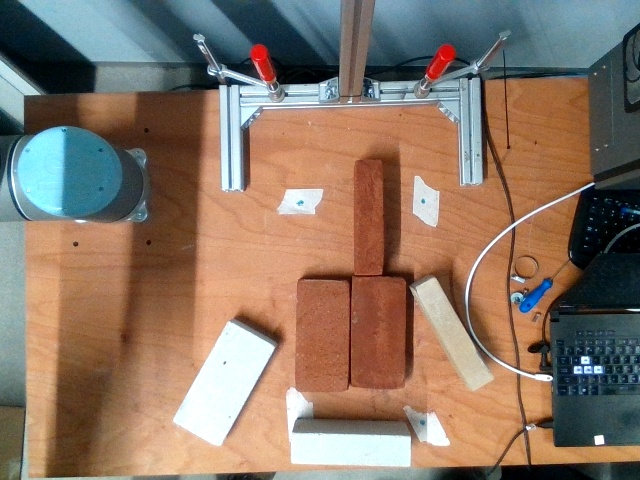brick: (353, 279, 405, 388), (298, 281, 347, 390)
brick-side: (173, 322, 275, 447), (414, 279, 492, 391), (292, 436, 409, 466), (356, 161, 382, 273)
